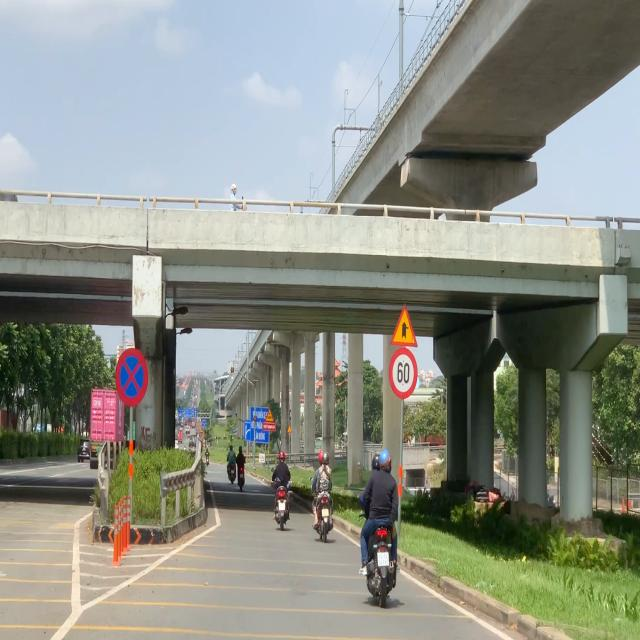Cam dung va do: (115, 347, 148, 408)
Giao voi duong khong uu tien: (390, 304, 418, 348)
Nguy hiem: (265, 407, 274, 422)
Toc do toi da: (388, 347, 418, 400)
